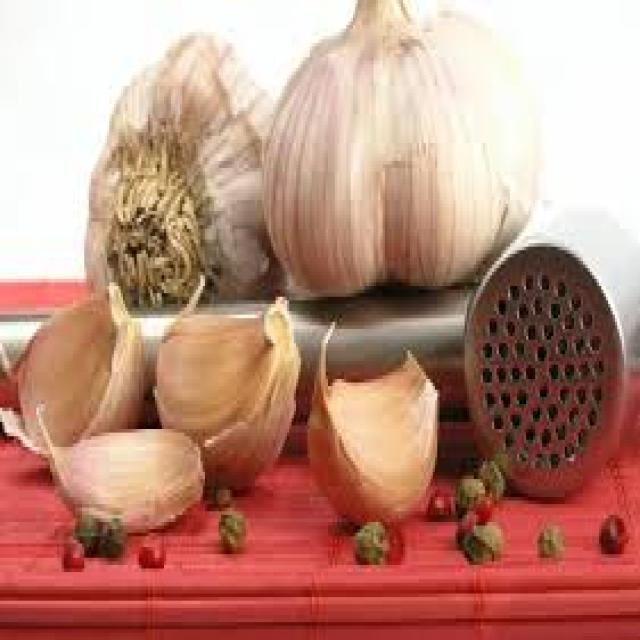Garlic: (263, 0, 547, 296), (73, 33, 283, 302), (300, 338, 449, 534), (147, 300, 308, 480), (4, 267, 148, 453), (33, 414, 215, 538)
